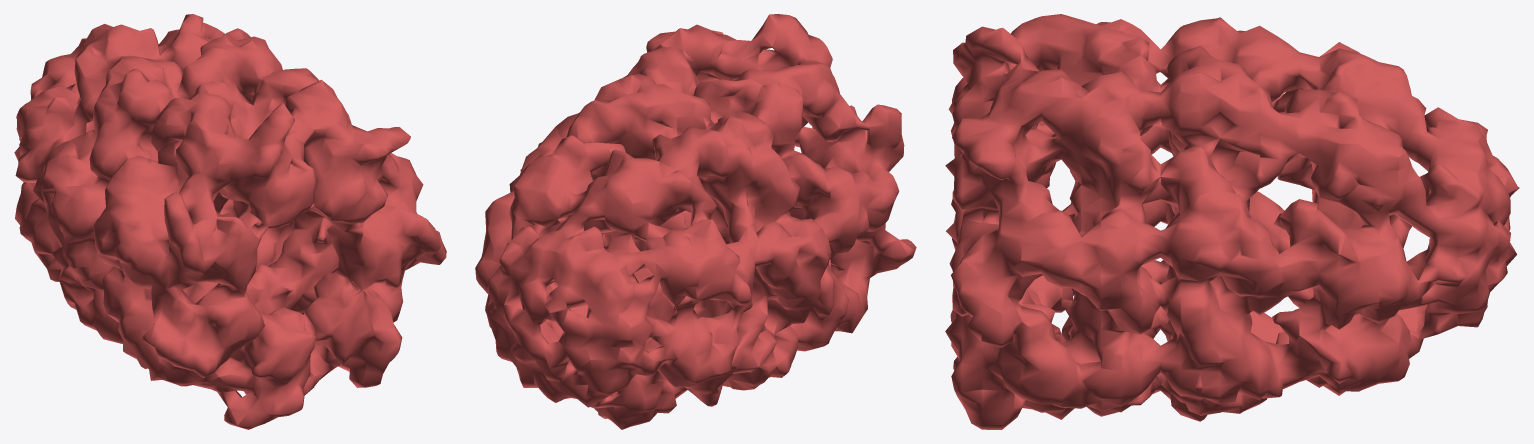
File: CoarseMS_1aon_1_1.dae
3 renders of one model, left to right at view 1: azimuth 30°, elevation 25°; view 2: azimuth 150°, elevation 25°; view 3: azimuth 270°, elevation 25°, orthographic. The views are drawn at different scales.
Parts seen in each view (by area): view 1: CoarseMS_1aon_mesh; view 2: CoarseMS_1aon_mesh; view 3: CoarseMS_1aon_mesh.
Boxes of the visible parts, x1=… form: CoarseMS_1aon_mesh: x1=14, y1=14, x2=446, y2=429; CoarseMS_1aon_mesh: x1=475, y1=14, x2=916, y2=429; CoarseMS_1aon_mesh: x1=945, y1=14, x2=1519, y2=429.
Bounding box in the file's own units: 140 × 143 × 196.
